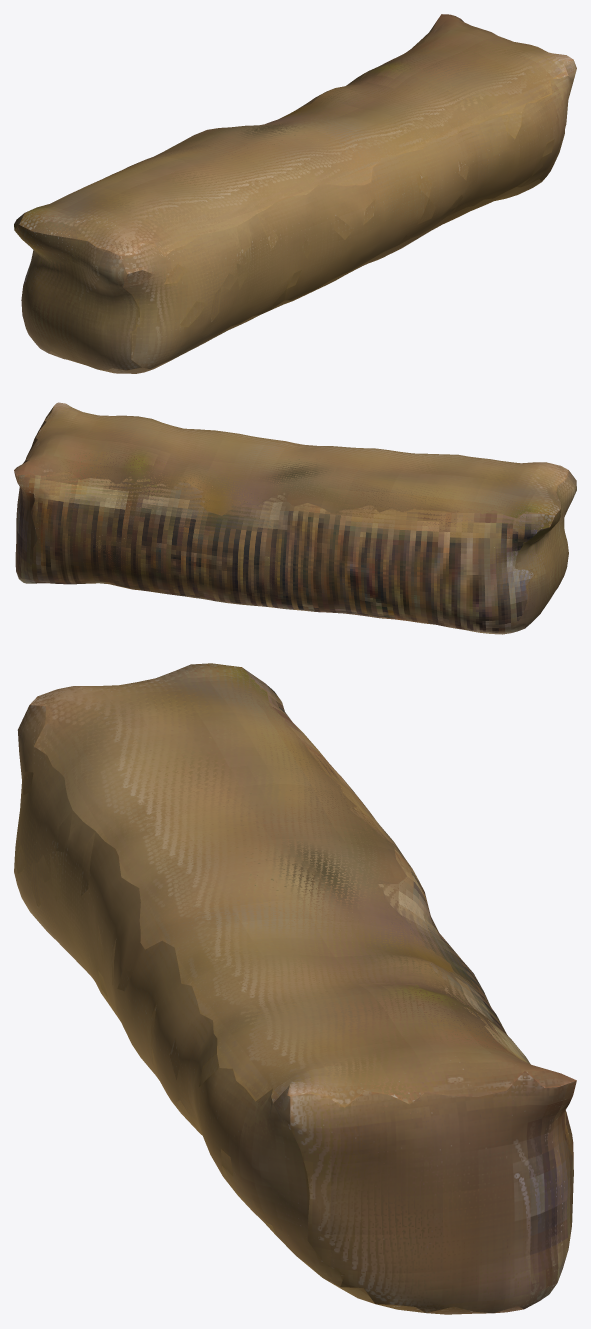
File: 3_radiator.glb
The picture shows the model from 3 angles, top to bottom: view 1: azimuth 30°, elevation 25°; view 2: azimuth 150°, elevation 25°; view 3: azimuth 270°, elevation 25°; orthographic projection. The views are drawn at different scales.
Parts seen in each view (by area): view 1: 3_radiator.obj; view 2: 3_radiator.obj; view 3: 3_radiator.obj.
Part boxes in pixels (x1,y1,x2,y2): 3_radiator.obj: [14, 14, 576, 373]; 3_radiator.obj: [14, 402, 576, 634]; 3_radiator.obj: [14, 663, 576, 1314].
Bounding box in the file's own units: 2.98 × 0.8011 × 1.58.
Materials: 1 (1 with a texture image).
